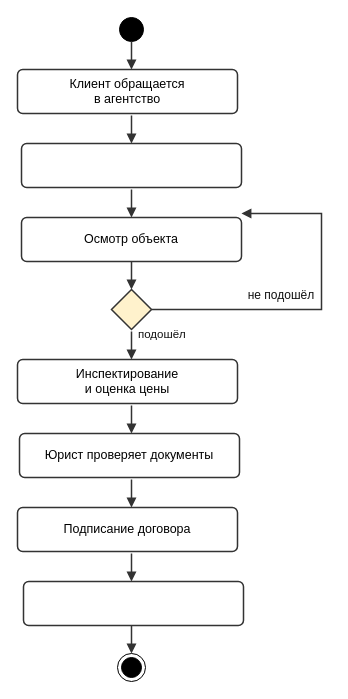
Some shapes in this 348 by 699 pixel diagram are drawn without their labels. The centre of each missing label's shape, as x and y in pixels:
Агент подбирает объекты: the point at 131,165
Расчёт комиссии и налогов: the point at 133,603
